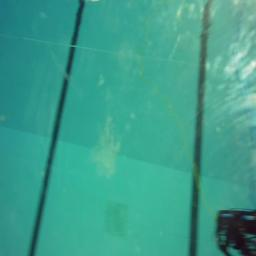Side: (216, 207, 255, 256)
